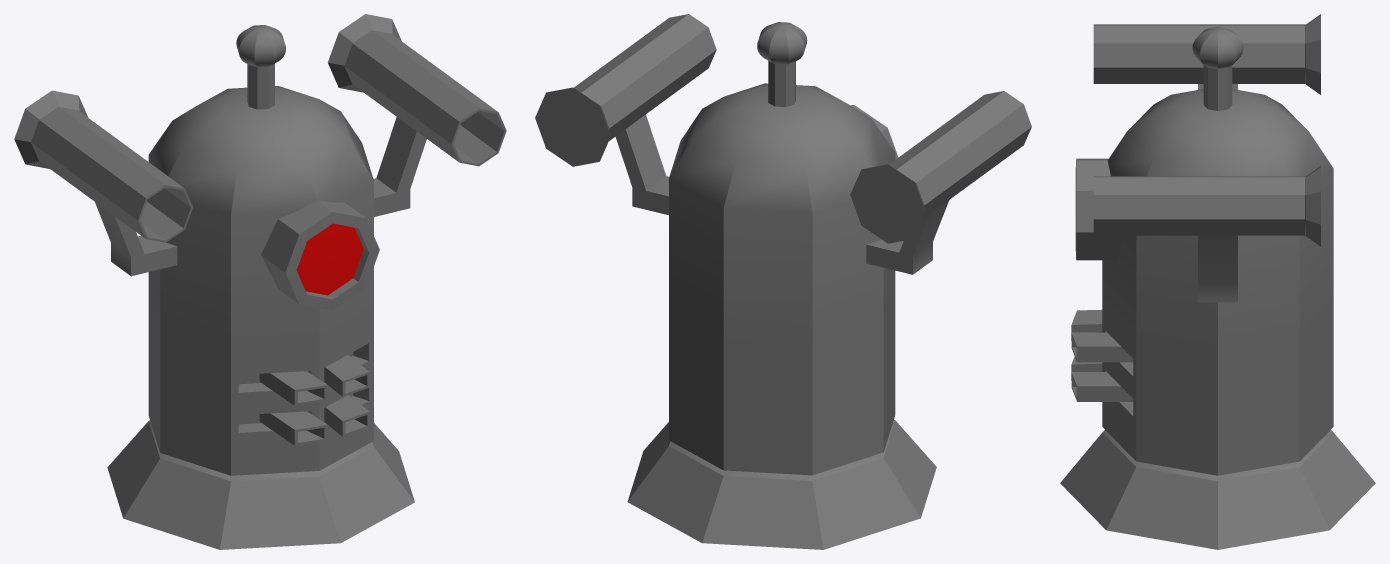
Rendered from Minion_High.fbx.
The picture shows the model from 3 angles, left to right: view 1: azimuth 30°, elevation 25°; view 2: azimuth 150°, elevation 25°; view 3: azimuth 270°, elevation 25°; orthographic projection.
Parts seen in each view (by area): view 1: Body, Hover, Rocket1, Rocket; view 2: Body, Hover, Rocket, Rocket1; view 3: Body, Hover, Rocket, Rocket1.
Boxes of the visible parts, <box> form: Body: <box>95,25,426,475</box>; Hover: <box>107,420,414,549</box>; Rocket1: <box>14,90,193,242</box>; Rocket: <box>327,14,506,166</box>; Body: <box>615,22,949,475</box>; Hover: <box>627,420,936,549</box>; Rocket: <box>535,14,716,166</box>; Rocket1: <box>850,91,1031,243</box>; Body: <box>1071,27,1333,475</box>; Hover: <box>1060,430,1375,549</box>; Rocket: <box>1093,166,1320,246</box>; Rocket1: <box>1093,14,1320,94</box>.
Size of the model in its own units: 3.85 by 4.33 by 2.73.
